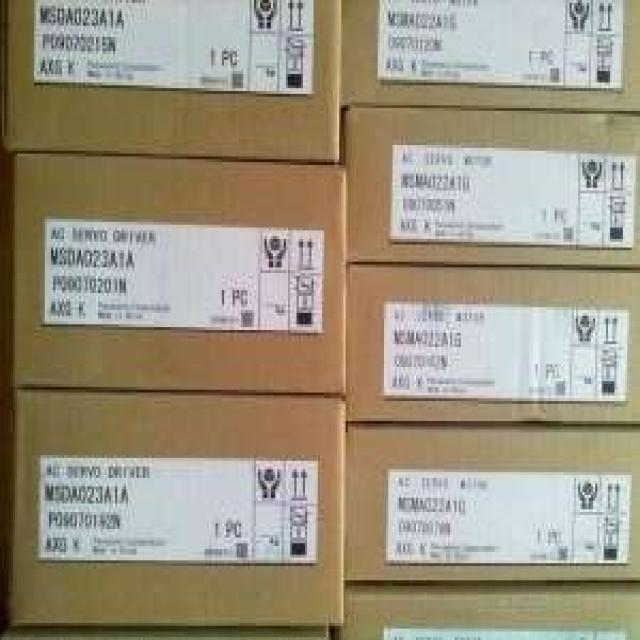box: (11, 154, 346, 393), (9, 393, 346, 626), (0, 0, 343, 162), (346, 265, 640, 427), (343, 111, 640, 267), (341, 430, 640, 583), (341, 0, 640, 111), (339, 589, 640, 640)
